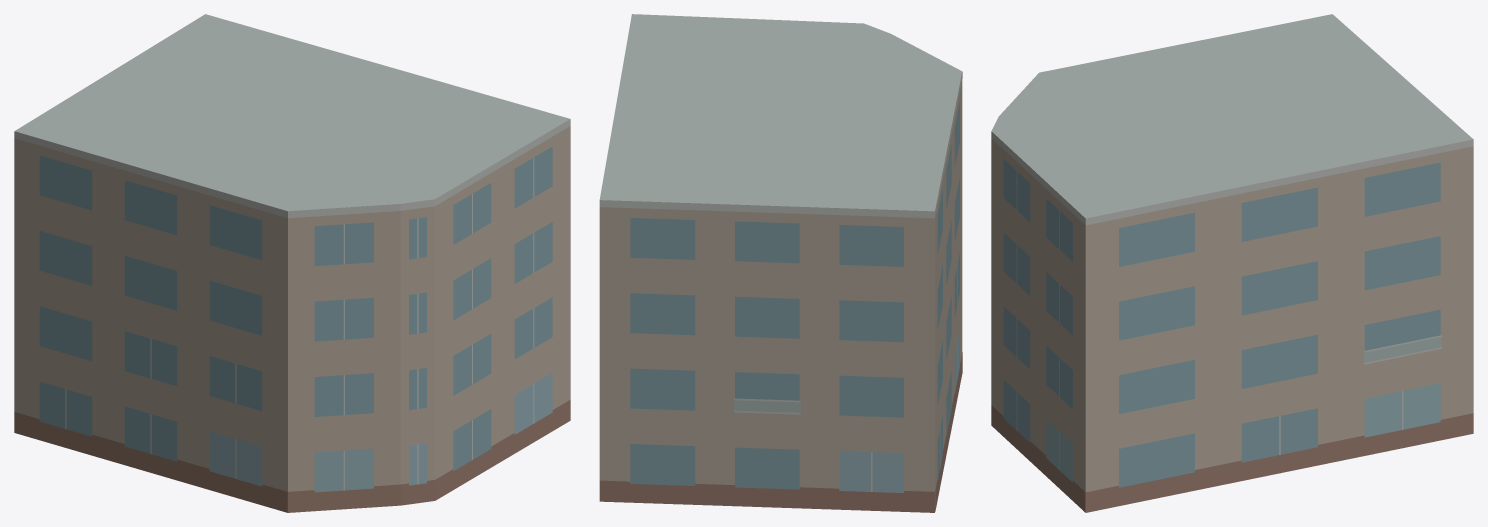
Rendered from survey-upis-32704873.glb.
3 renders of one model, left to right at view 1: azimuth 30°, elevation 25°; view 2: azimuth 150°, elevation 25°; view 3: azimuth 270°, elevation 25°, orthographic. The views are drawn at different scales.
Visible parts, largest first — view 1: survey-upis-32704873.tmp; view 2: survey-upis-32704873.tmp; view 3: survey-upis-32704873.tmp.
Boxes of the visible parts, x1,y1,x2,y2 form: survey-upis-32704873.tmp: [14, 14, 570, 512]; survey-upis-32704873.tmp: [599, 14, 962, 512]; survey-upis-32704873.tmp: [991, 14, 1473, 512].
Size of the model in its own units: 15.66 by 10.5 by 15.61.
